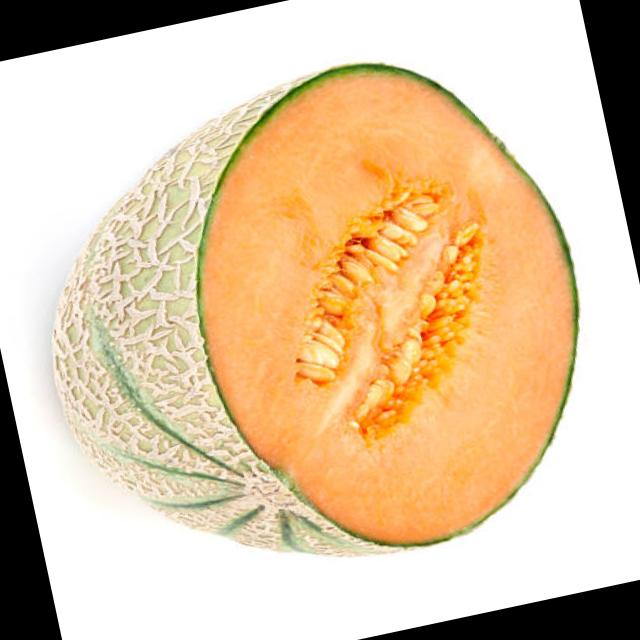cantaloupe: (0, 26, 626, 617)
